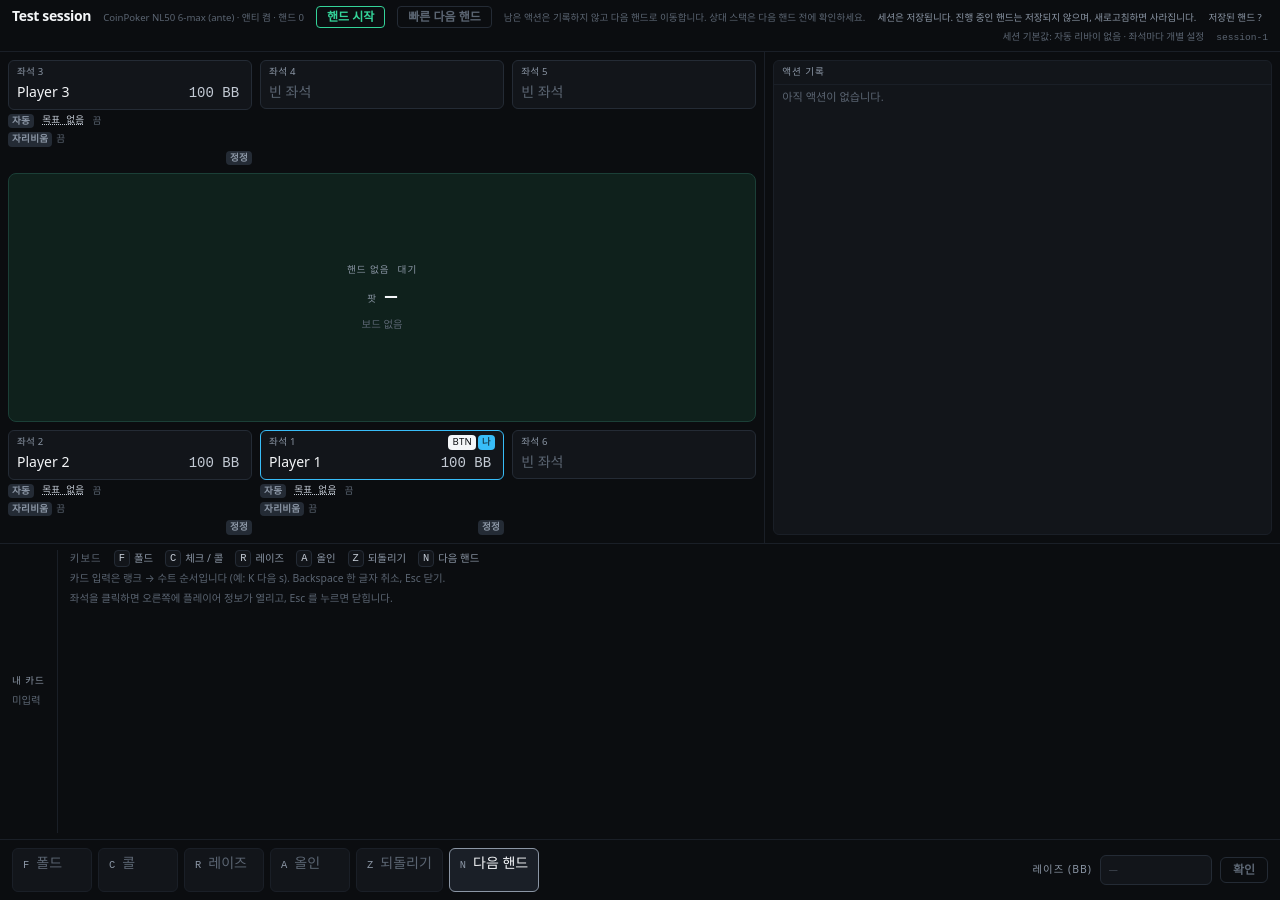
Test case: TableRoot › opens a player profile on seat click and closes it on Esc
Click the button with test id "seat-1": coordinates (130, 455) top-left (8, 430), bottom-right (252, 480)
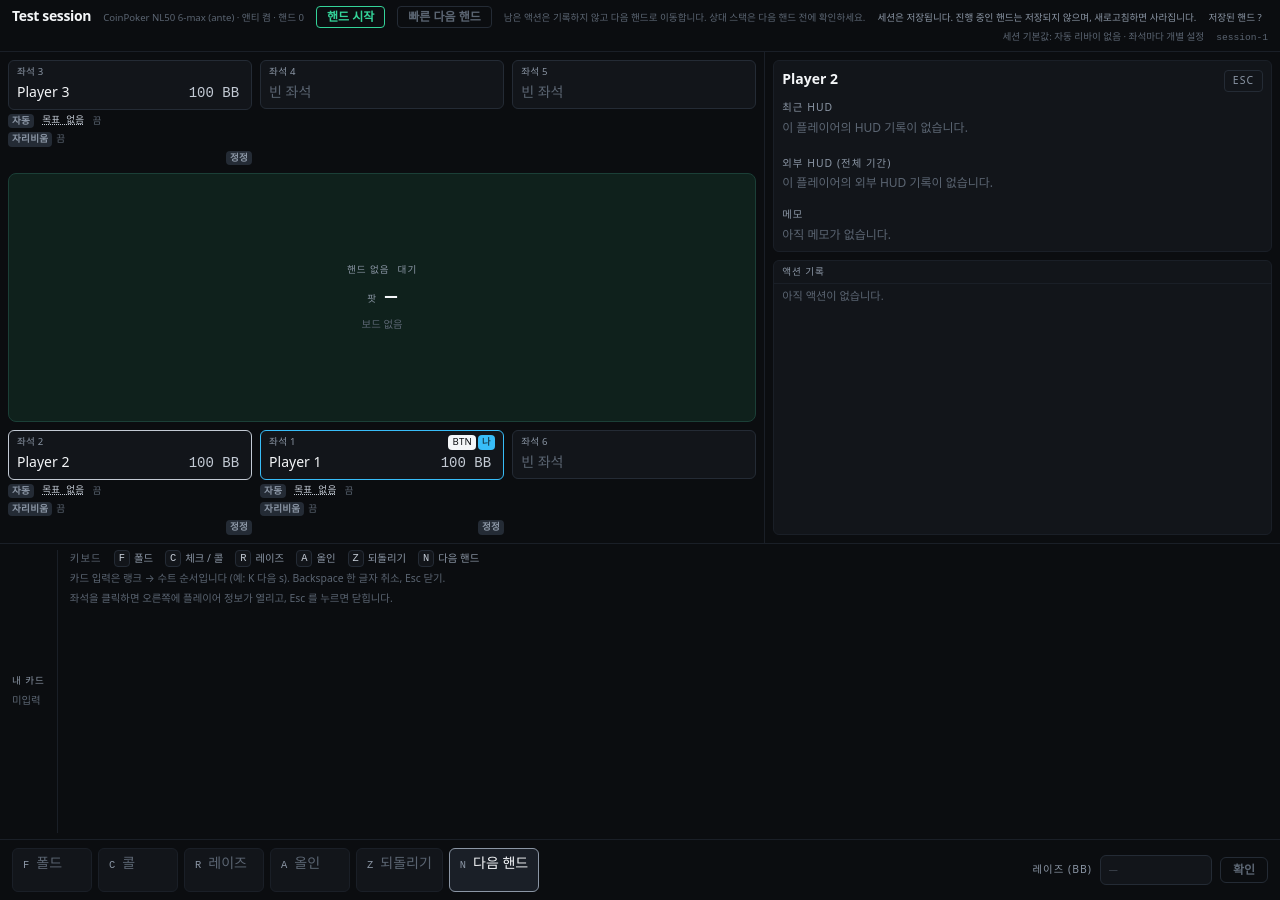
Now the element with test id "player-profile" is shown, box top-left (782, 69), bottom-right (1263, 243)
Now the text "이 플레이어의 HUD 기록이 없습니다." is shown, box top-left (782, 119), bottom-right (968, 136)
Now the text "아직 메모가 없습니다." is shown, box top-left (782, 226), bottom-right (891, 243)
Press Escape
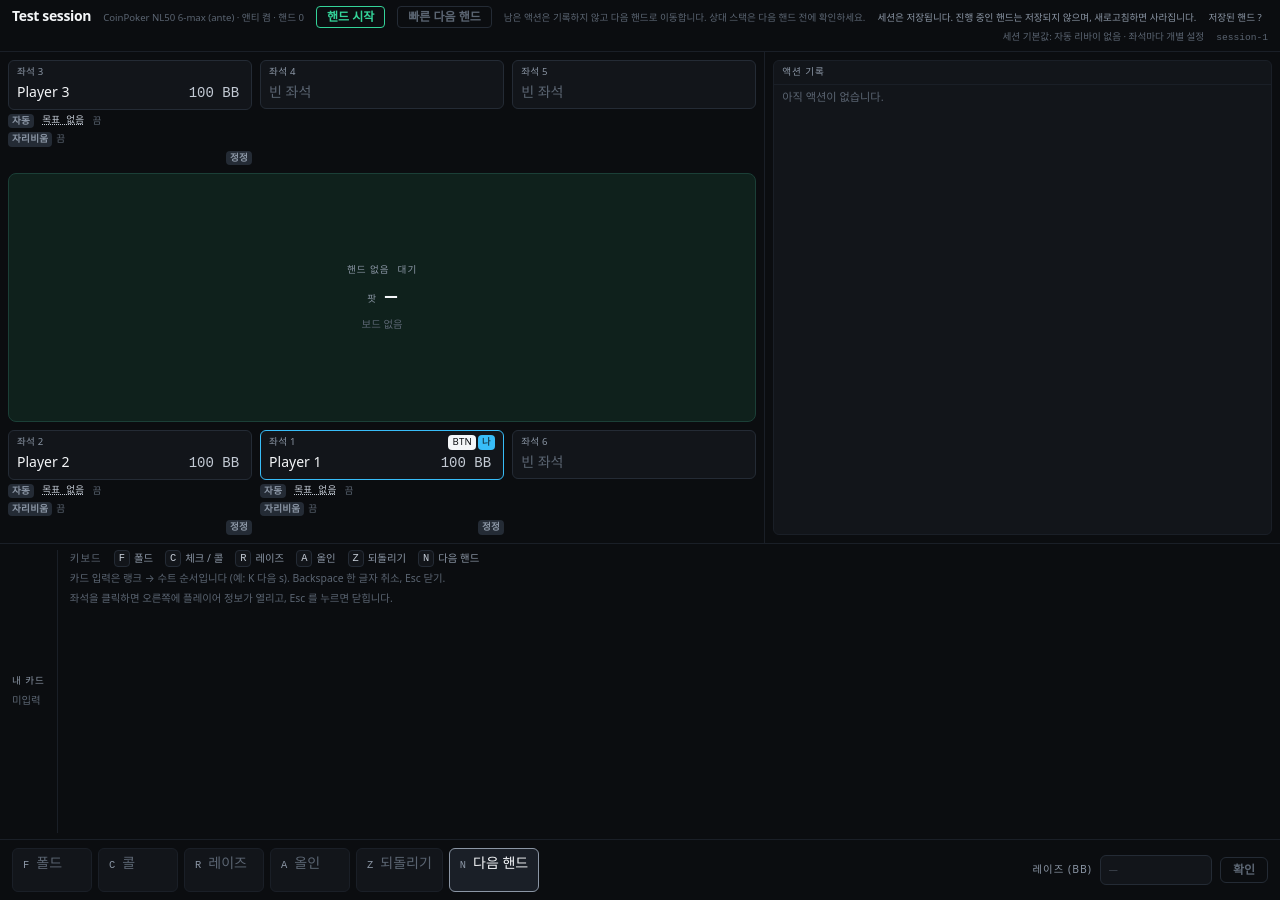
Expected: the element with test id "action-history" is shown, top-left (773, 60), bottom-right (1272, 535)
Now the element with test id "player-profile" is gone
